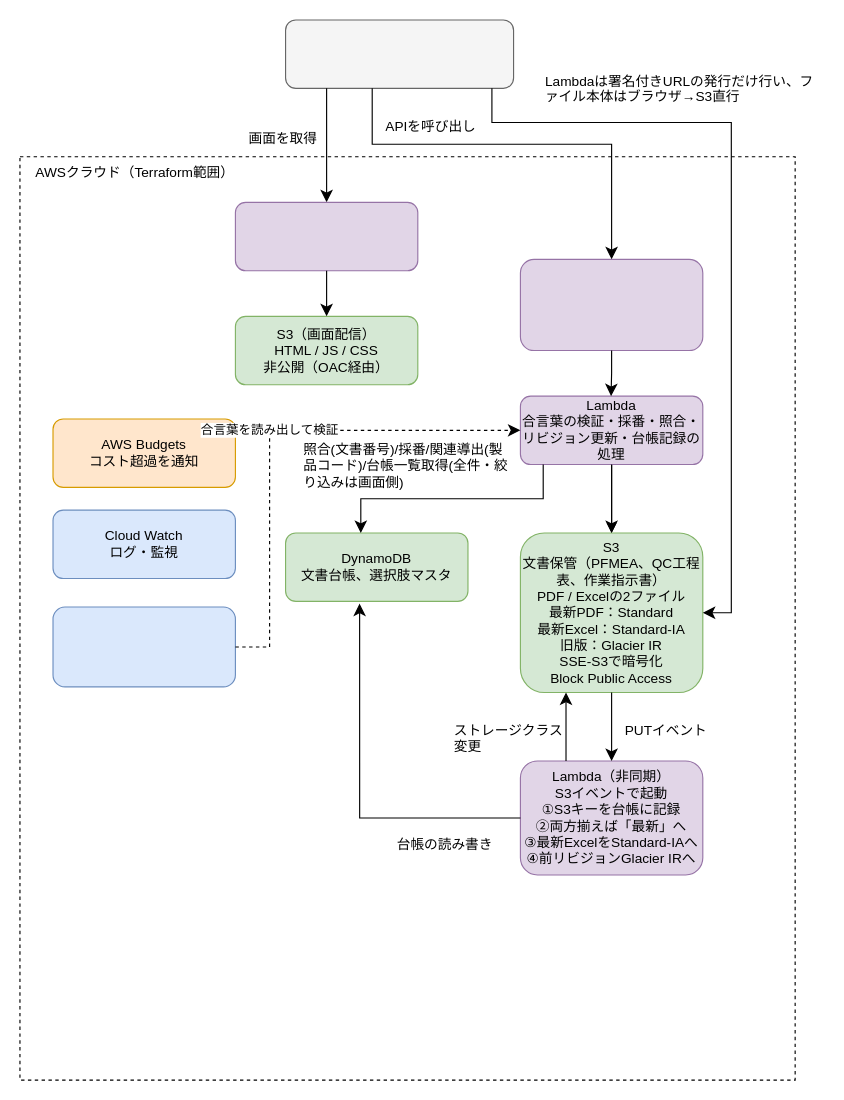
The diagram is 844 pixels wide and 1100 high, and some of its shapes have lost their labels. Each missing label, with the centre of its shape:
"API Gateway APIの入口・振り分け REST API / リソースポリシーで社内IP制限" goes at pixel 611 304.
"CloudFront HTTPS配信 CloudFront Functionsで社内IPのみ許可" goes at pixel 326 236.
"SSM Parameter Store 合言葉を SecureString で保管" goes at pixel 143 646.
"利用者のブラウザ 作業者・管理者のPC" goes at pixel 399 53.
